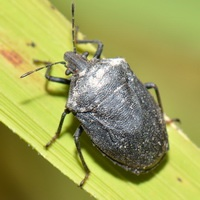insect: (20, 2, 172, 185)
